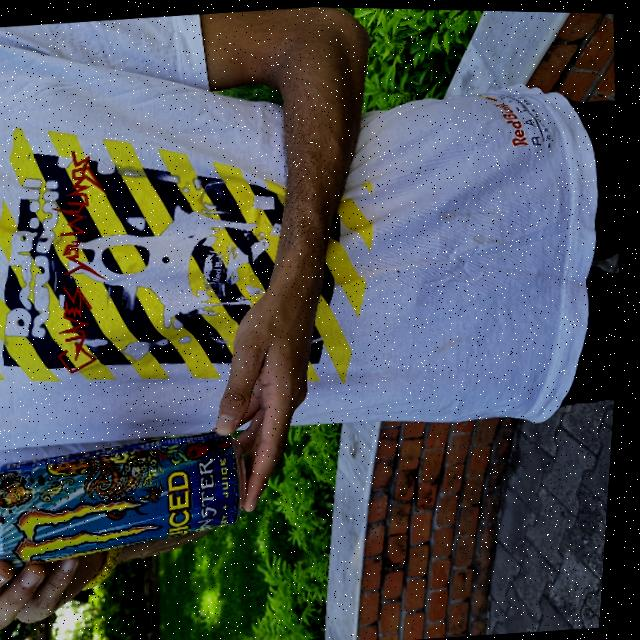Monster Aussie Lemonade: (0, 423, 257, 574)
